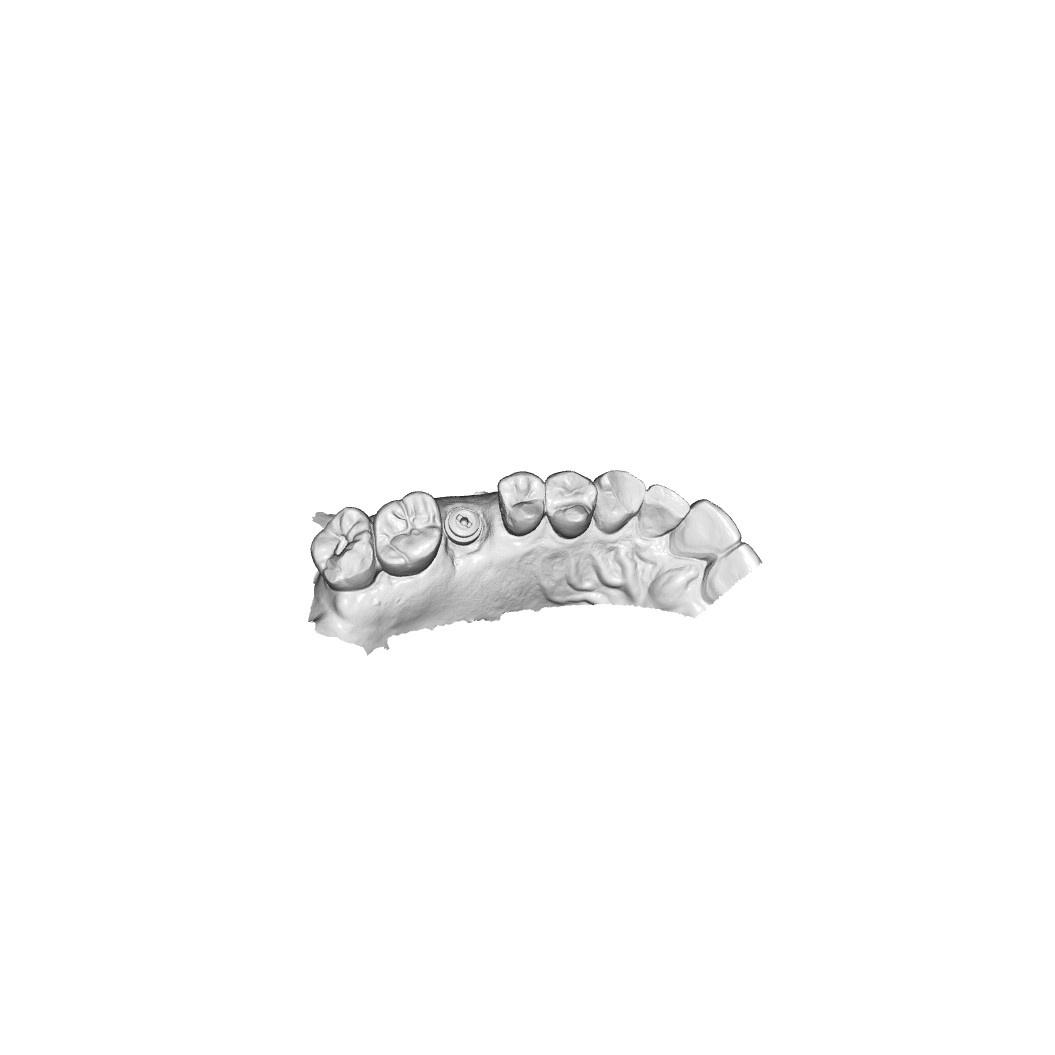canine: (591, 467, 645, 535)
implant_minus: (442, 504, 485, 546)
incisor: (667, 495, 743, 561), (635, 480, 692, 539)
molar: (308, 503, 383, 591), (370, 490, 440, 577)
premolar: (494, 469, 552, 541), (544, 470, 596, 540)
